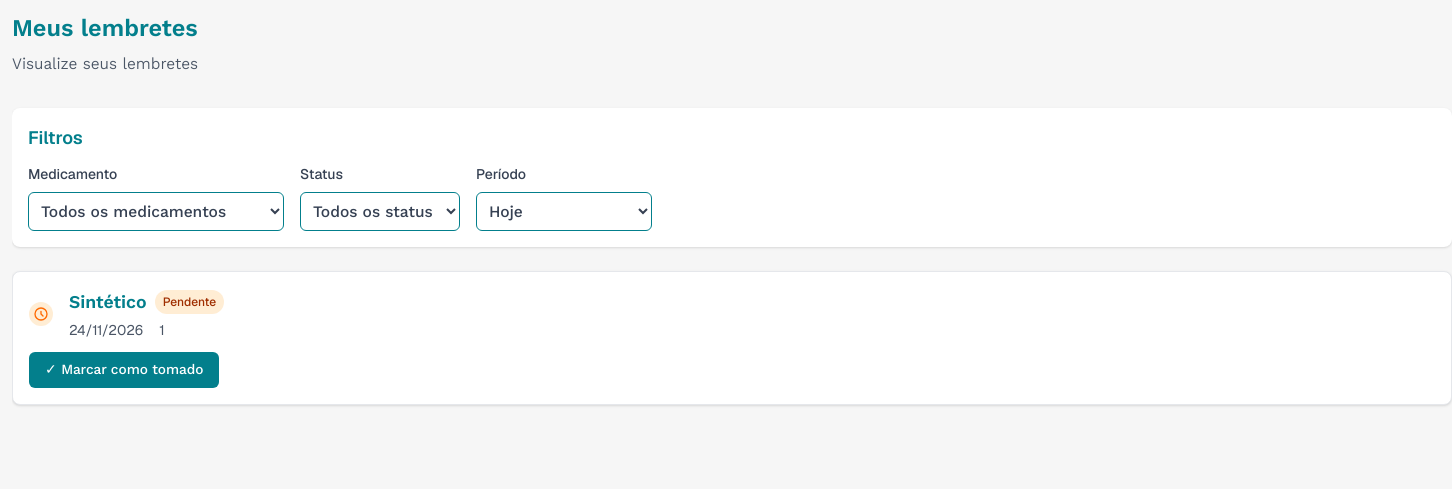
Scenario: NET-15 NET-16 lembretes › ERR-18 retry explícito confirmado remove erro e mostra Tomado
Click the button "✓ Marcar como tomado" at (124, 370), box [29,352,219,388]
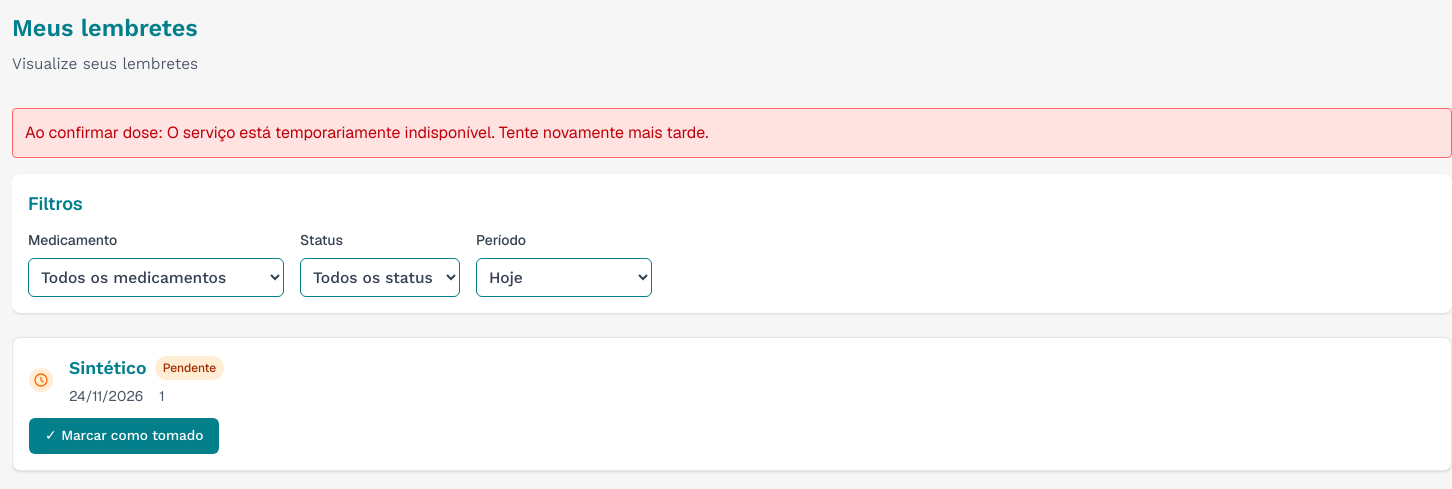
Expected: the message is shown, [12,108,1451,158]
Click the button "✓ Marcar como tomado" at (124, 436), box [29,418,219,454]
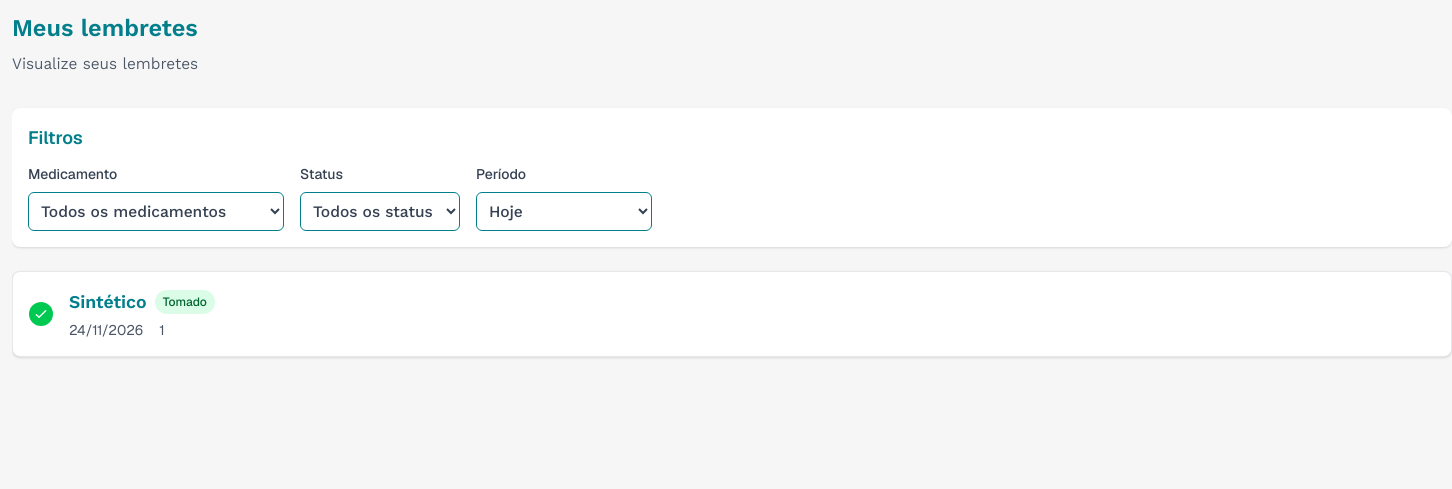
Expected: the message "Ao confirmar dose: O serviço está temporariamente indisponível. Tente novamente" is gone
Expected: the button "Marcar como tomado" is gone
